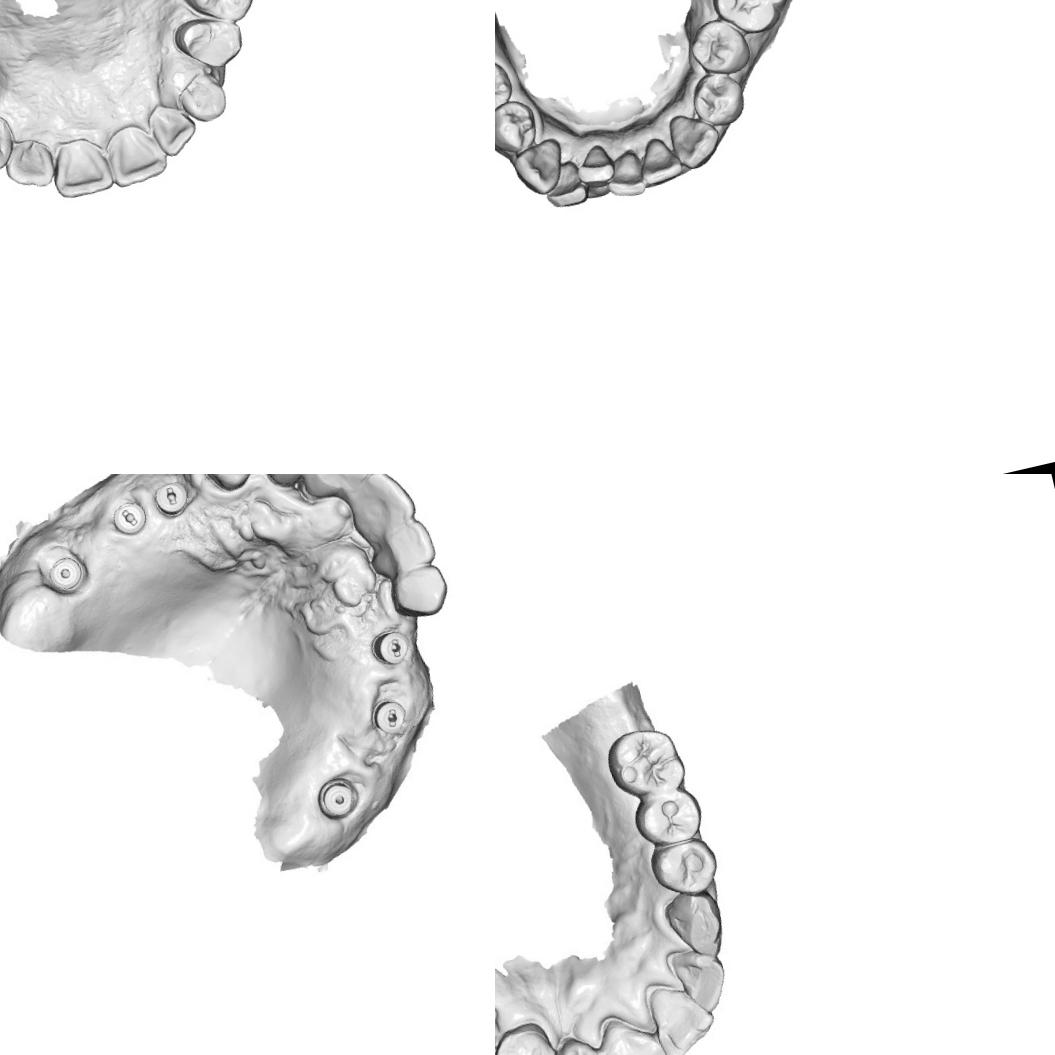canine: (659, 876, 737, 964), (506, 133, 574, 202), (383, 561, 454, 626), (664, 104, 727, 174), (176, 64, 234, 128), (495, 1017, 567, 1055), (191, 474, 269, 497), (0, 111, 27, 176)
implant: (311, 770, 365, 824), (36, 550, 88, 599)
implant_minus: (366, 691, 412, 739), (148, 474, 194, 521), (371, 626, 415, 668), (109, 497, 150, 540)
incisor: (100, 115, 171, 191), (43, 130, 114, 206), (672, 946, 737, 1023), (368, 512, 441, 578), (648, 980, 713, 1053), (345, 474, 418, 533), (0, 134, 60, 196), (146, 96, 202, 162), (568, 130, 627, 192), (596, 142, 652, 207), (631, 130, 688, 190), (597, 1010, 672, 1055), (538, 154, 594, 214), (295, 474, 380, 508), (552, 1034, 615, 1055), (248, 474, 325, 490)
molar: (610, 726, 689, 805), (700, 0, 799, 43)
premolar: (168, 8, 250, 78), (682, 10, 758, 84), (631, 780, 703, 848), (652, 834, 720, 902), (685, 64, 751, 134), (495, 94, 546, 162), (173, 0, 261, 33), (495, 52, 521, 123)
